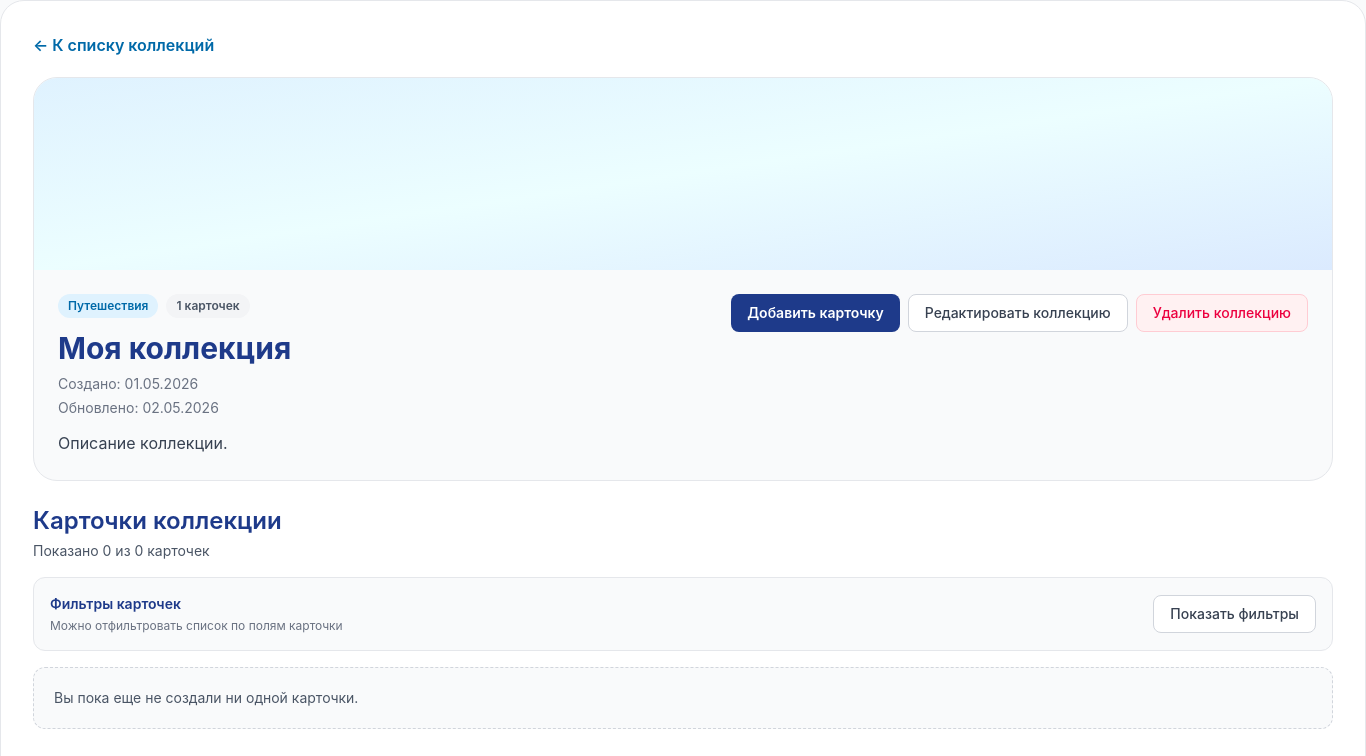
Scenario: CollectionDetailPage › submits collection edit form and refreshes detail query
The image size is (1366, 756).
Expected: the heading "Моя коллекция" is shown, [58,330,291,366]
Click the button "Редактировать коллекцию" at (1018, 313), box [908,294,1128,332]
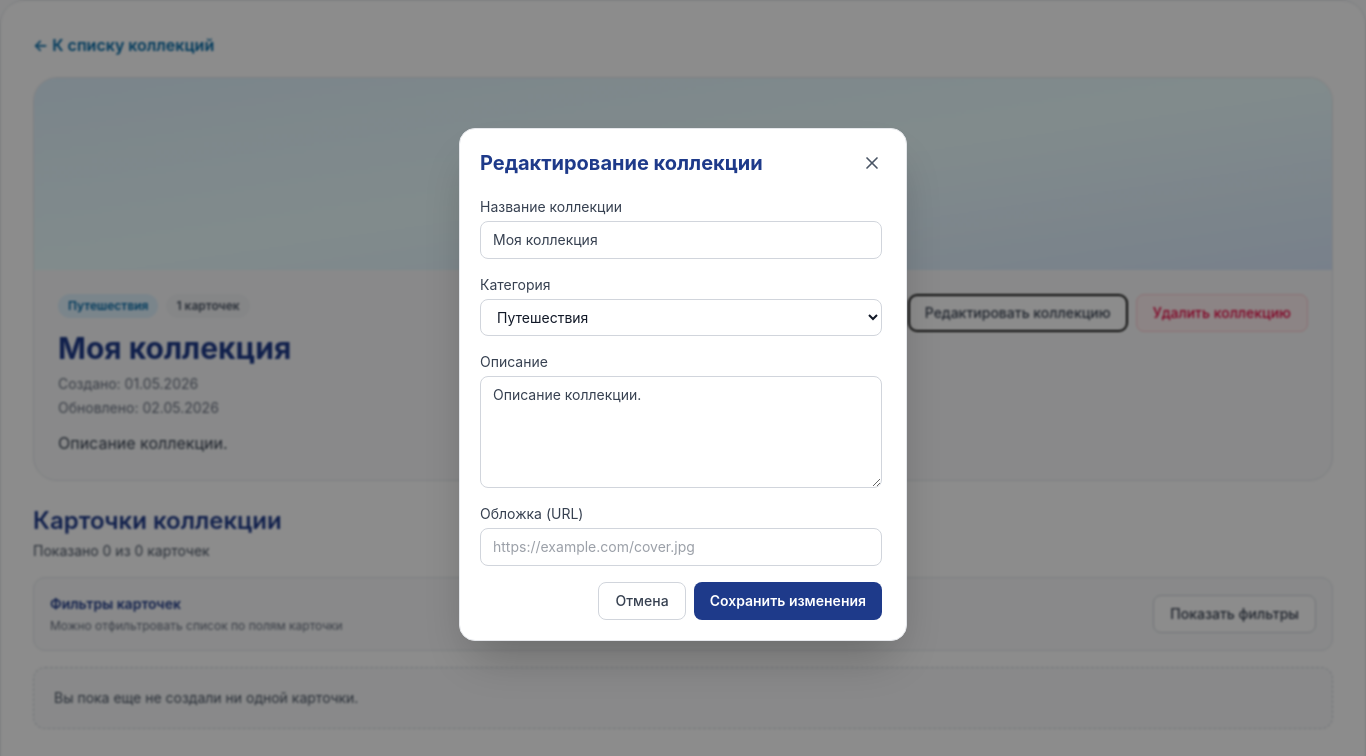
Replace the text in the field labelled "Название коллекции" with "Обновленная коллекция" at (681, 240), box [480,220,882,258]
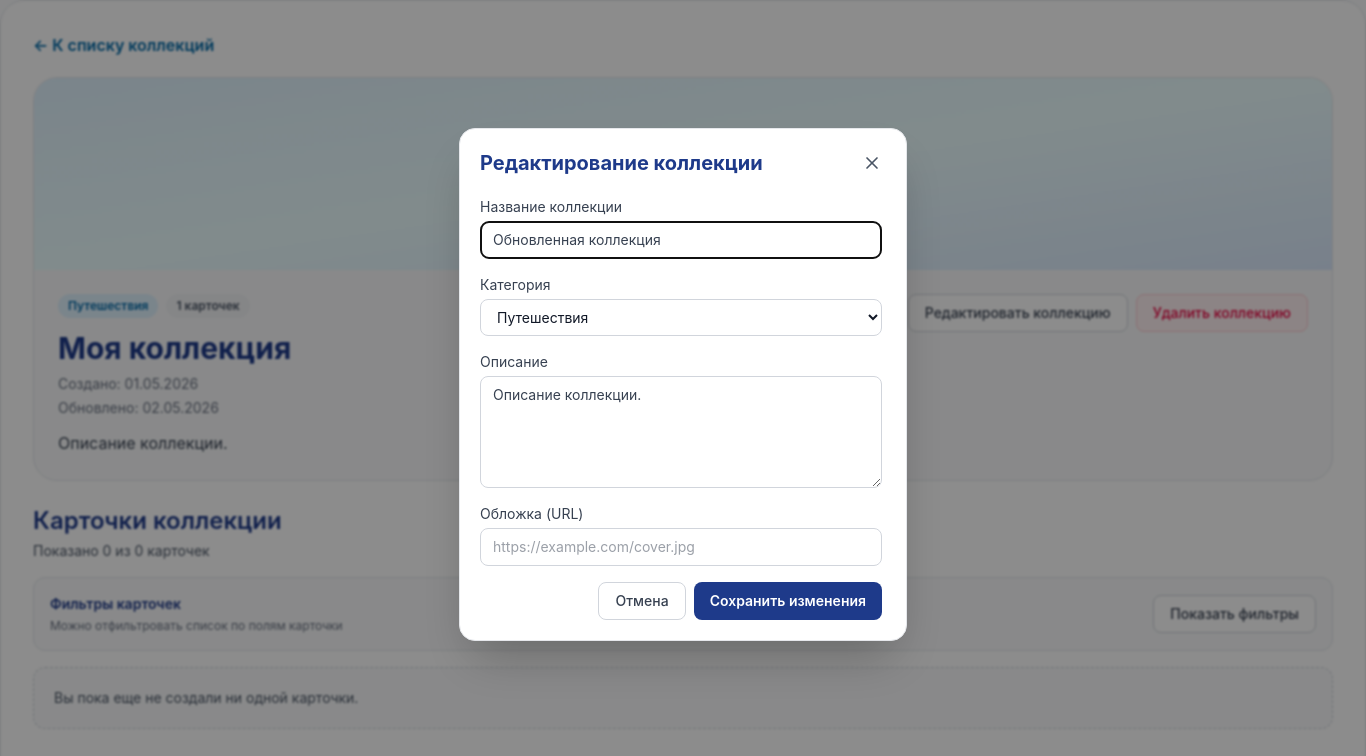
Replace the text in the text box labelled "Описание" with "Новое описание." at (681, 432), box [480,376,882,488]
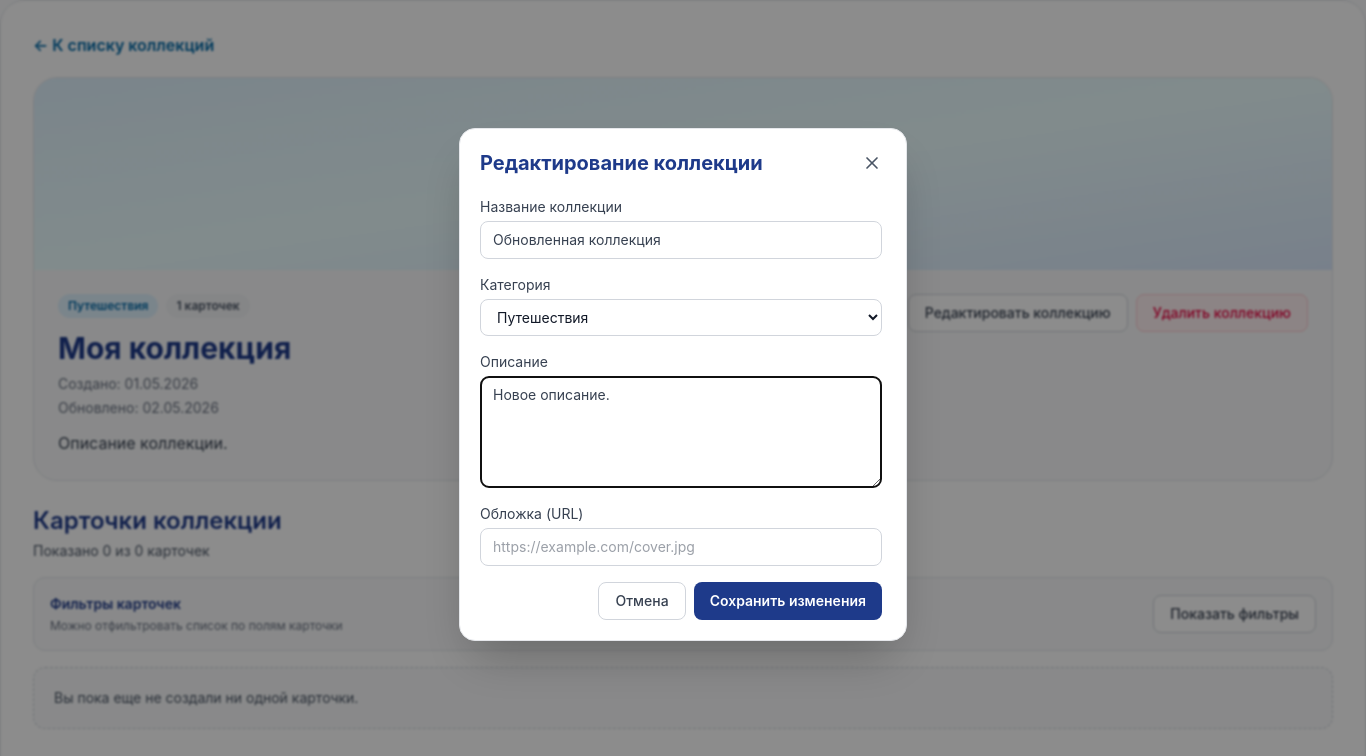
Click the button "Сохранить изменения" at (788, 600), box [694,582,882,620]
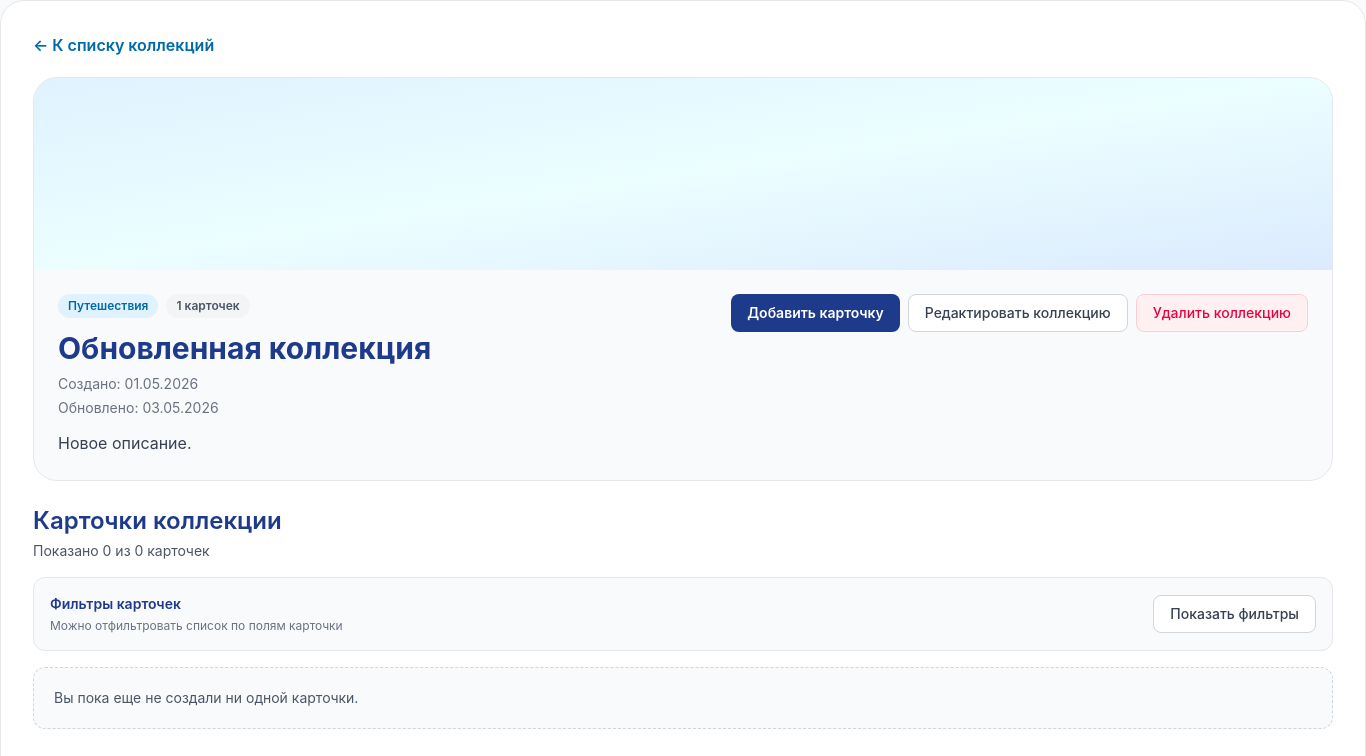
Result: the heading "Обновленная коллекция" is shown at [58,330,431,366]
